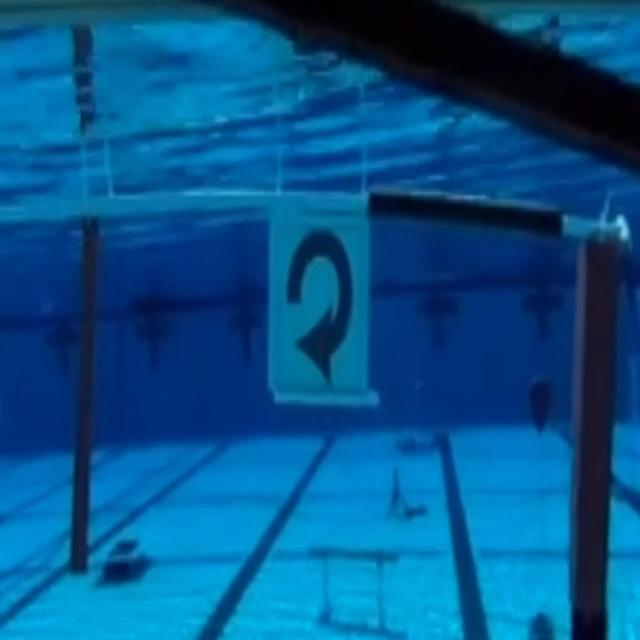Gate: (67, 174, 640, 640)
